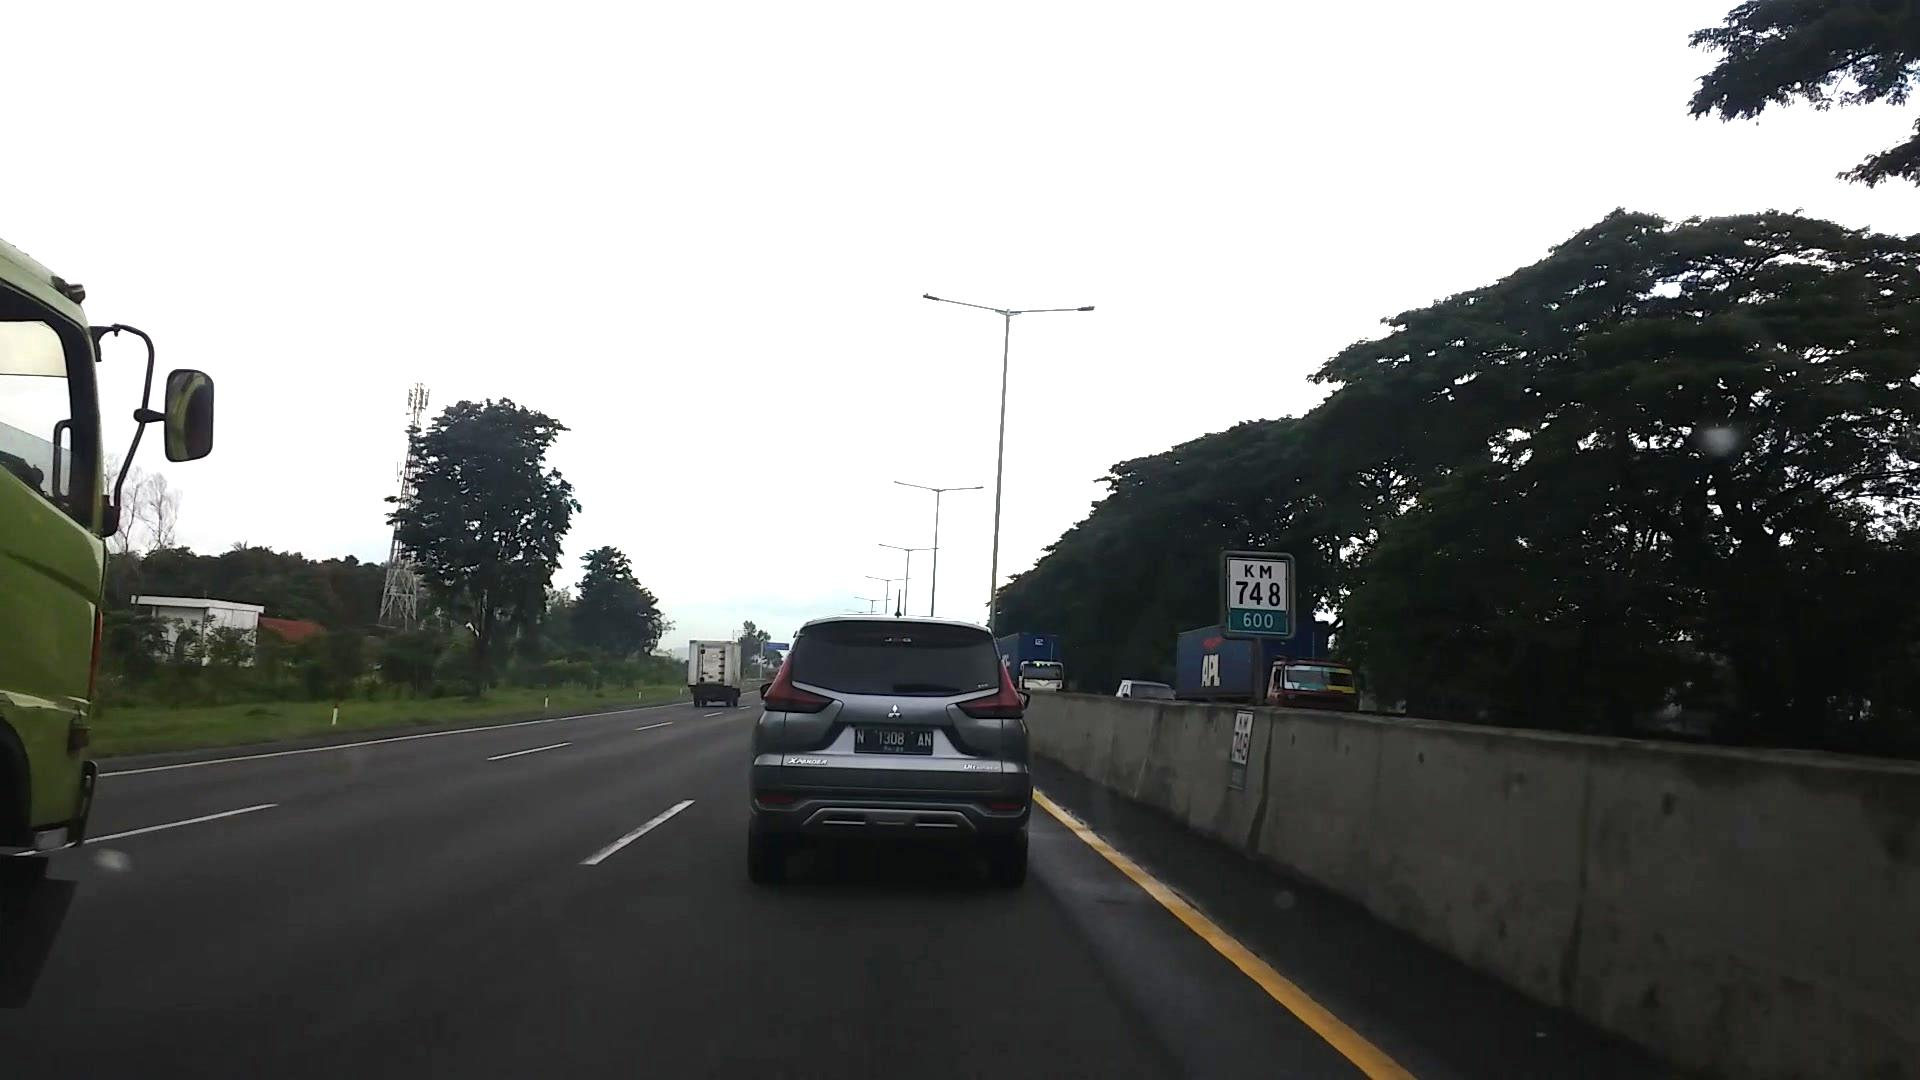plate_positive: (855, 727, 934, 756)
